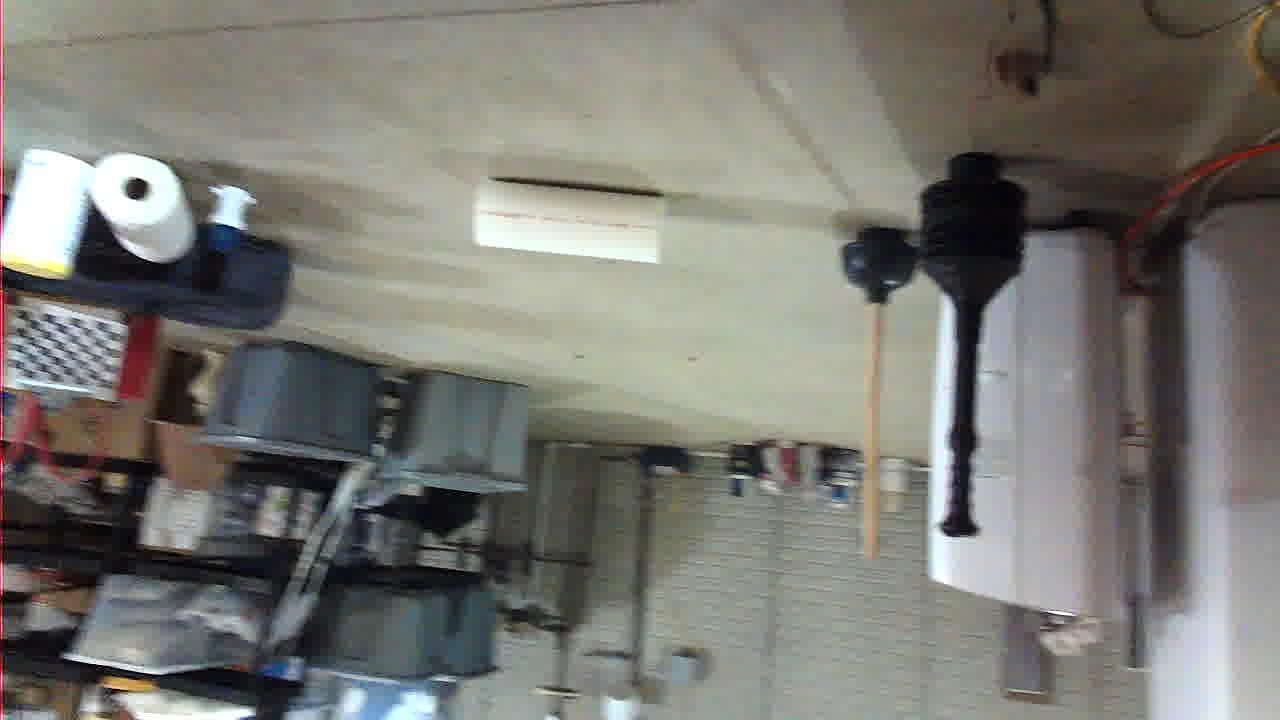coral: (620, 459, 804, 546)
